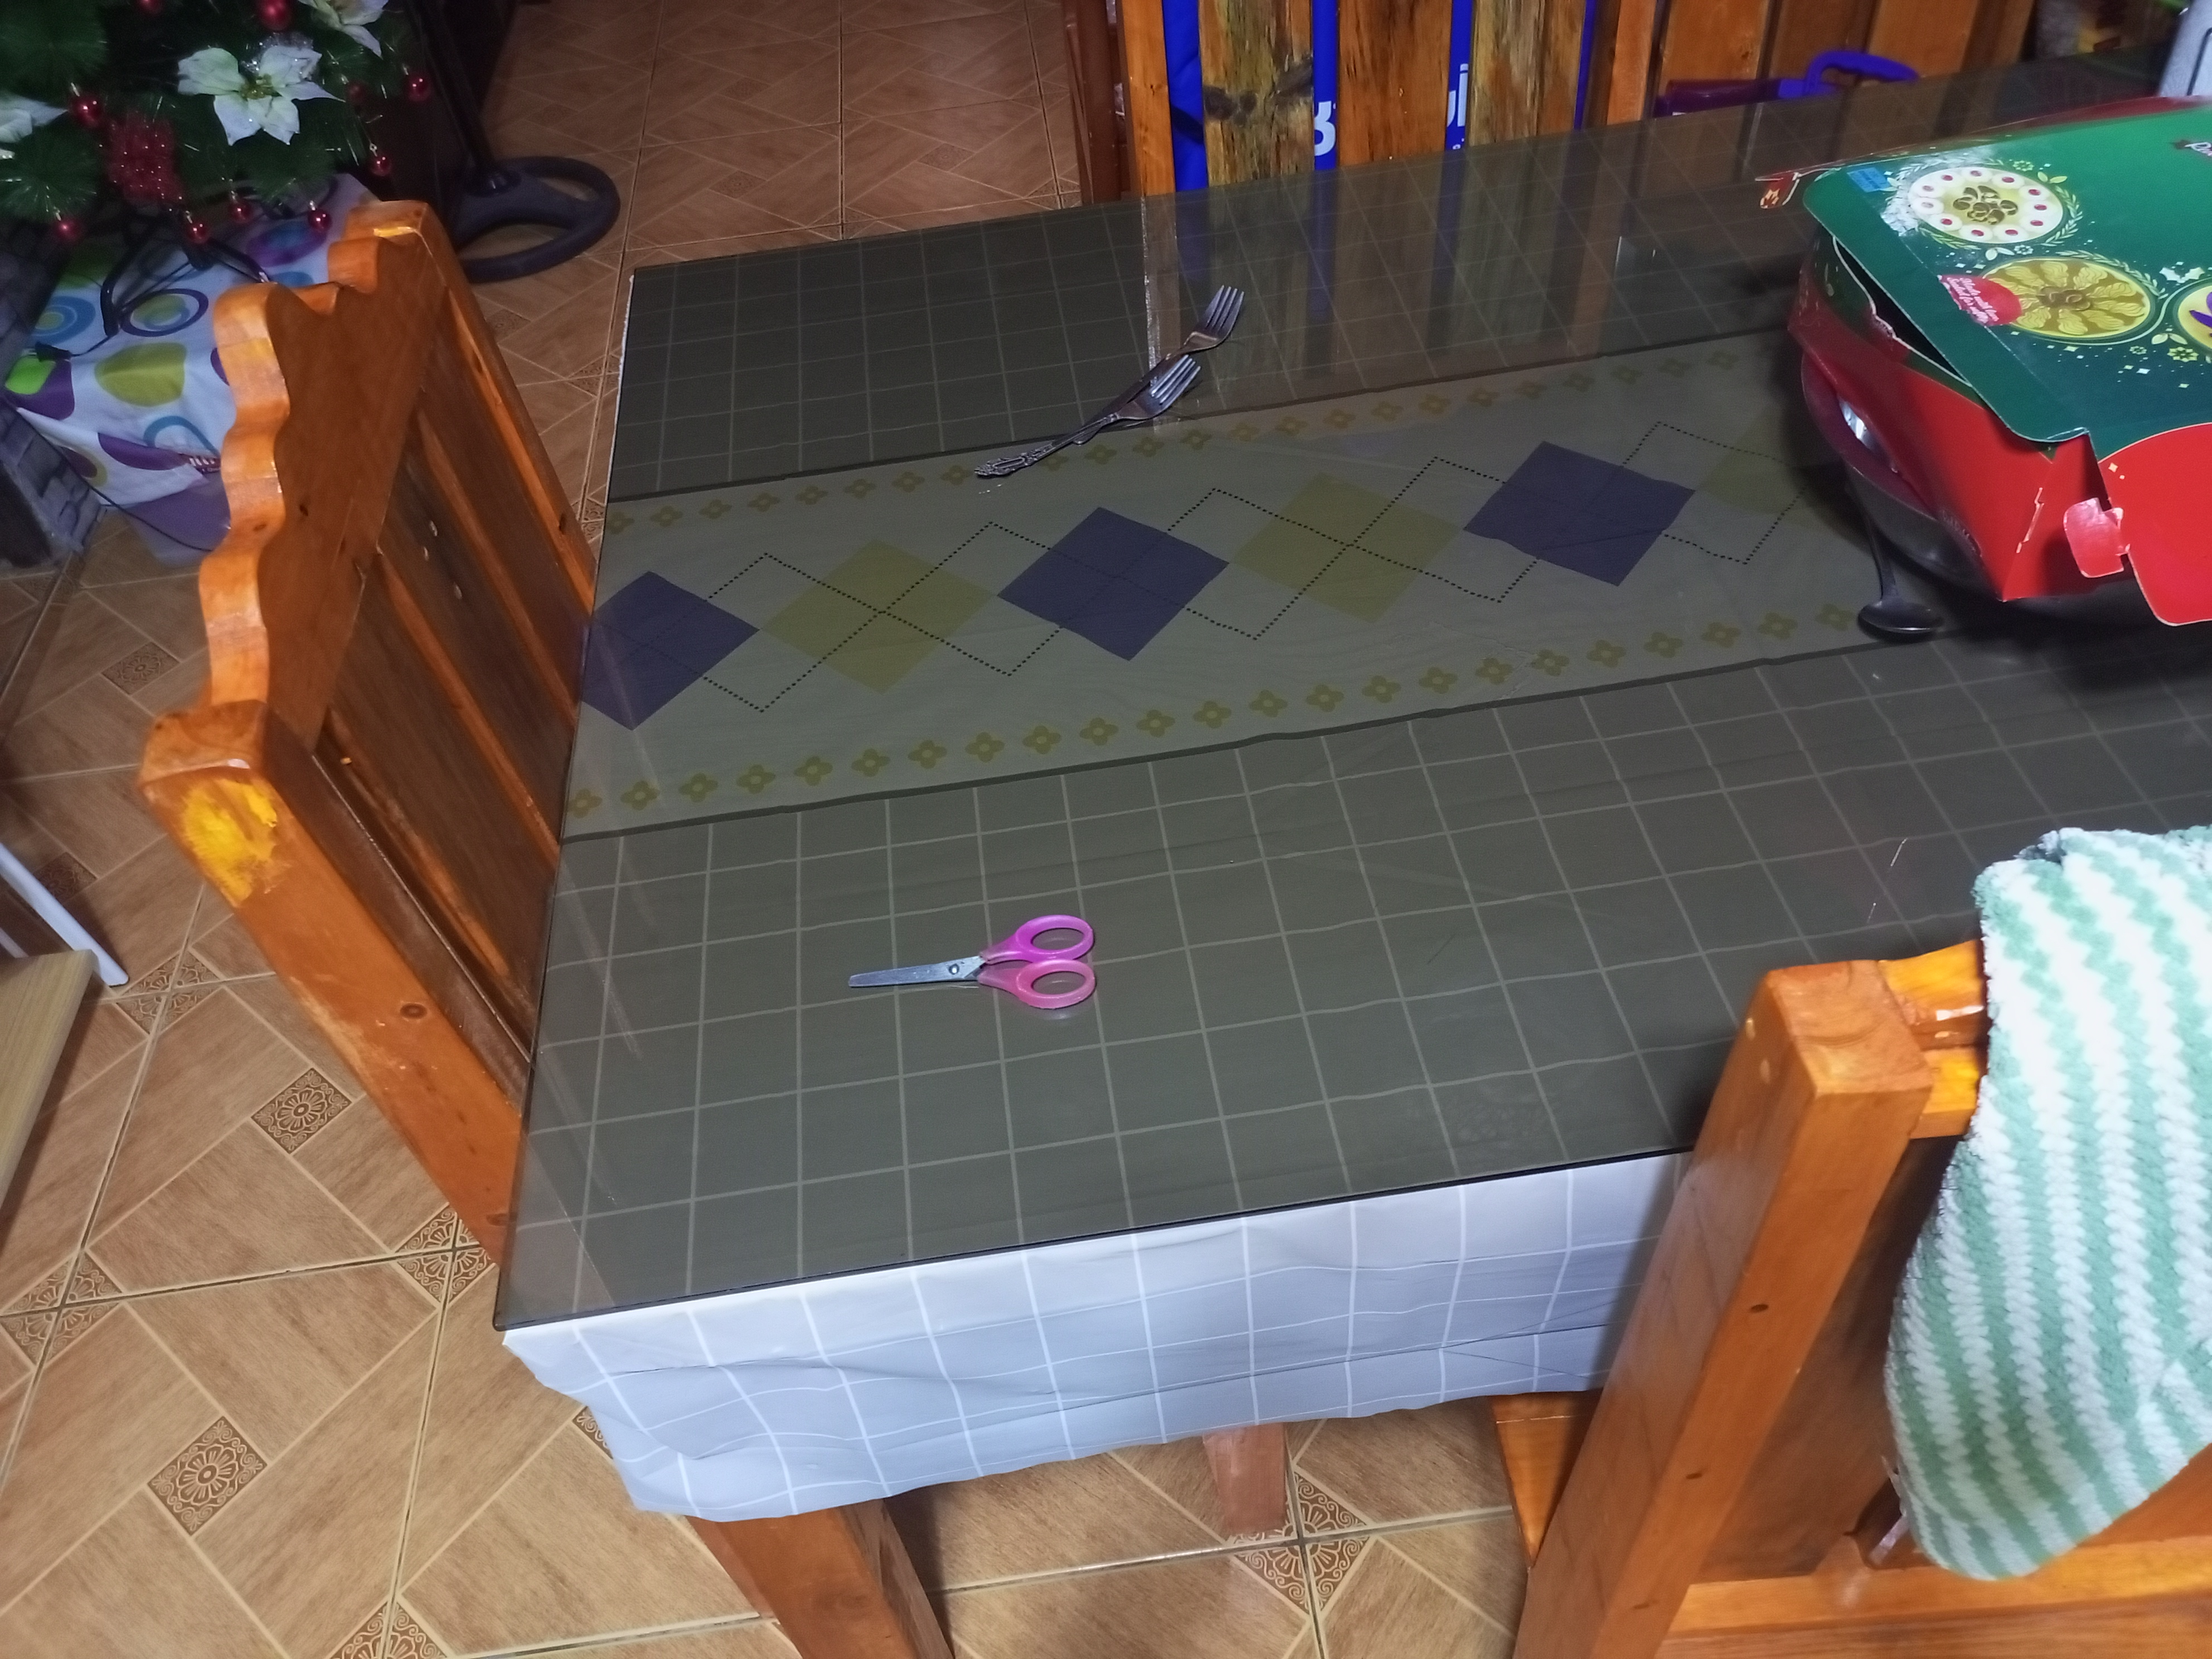scissor: (853, 918, 1097, 1004)
